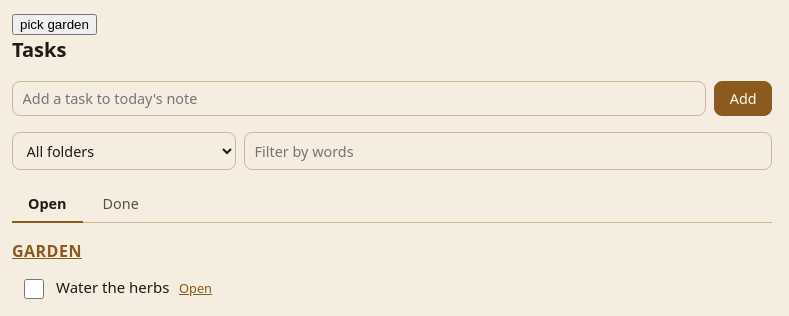
Test: TasksPage writes in flight › keeps a tick when the refetch after it only reaches the offline cache
Click the checkbox labelled "Water the herbs".
click(34, 289)  # box x1=24 y1=279 x2=44 y2=299
Wait 5100 ms
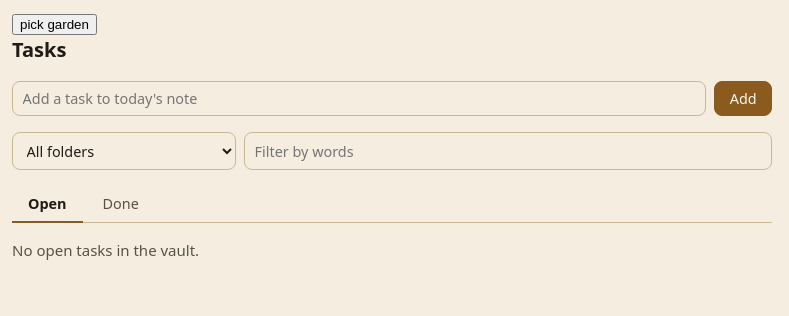
Click the tab "Done".
click(121, 204)  # box x1=86 y1=186 x2=155 y2=223
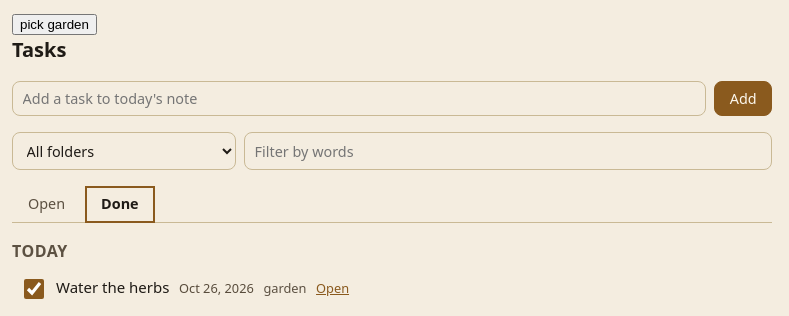
expect the checkbox labelled "Water the herbs" is checked: met, box x1=24 y1=279 x2=44 y2=299
